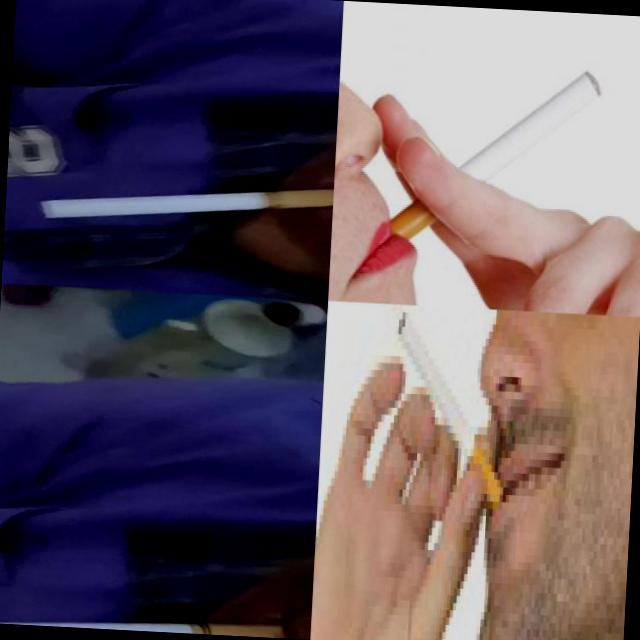cigarette: (382, 59, 606, 261), (33, 168, 334, 237), (0, 609, 286, 638)
